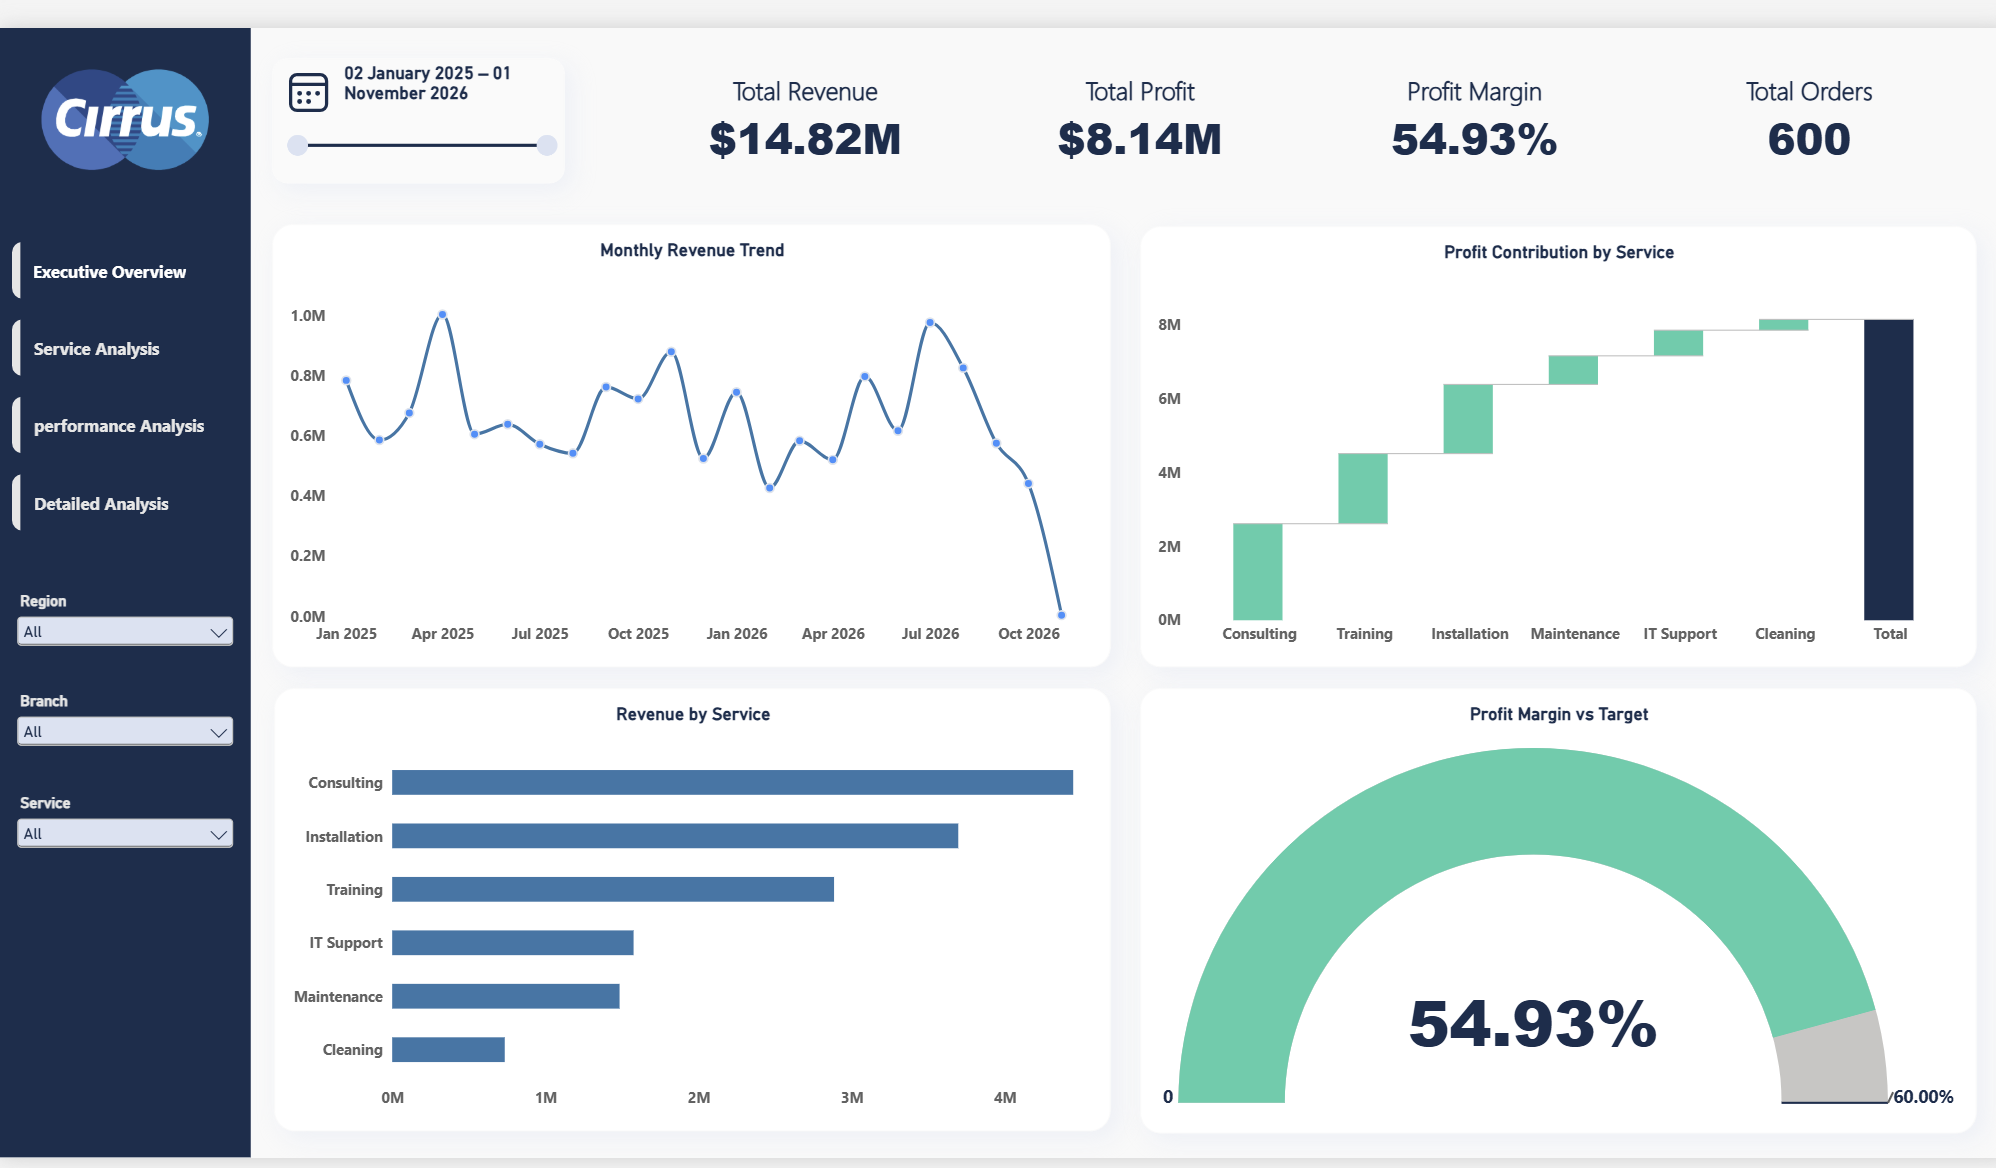

This screenshot's page, from the dashboard's own definition file:
{"tool":"powerbi","page":{"name":"Executive Overview","canvas":[1920,1080],"ordinal":0},"visuals":[{"type":"cardVisual","title":"Total Revenue","fields":{"Data":["ServiceData.Total Revenue","ServiceData.Total Profit","ServiceData.Profit Margin","ServiceData.Total Orders"]},"box":[610,28,1280,120],"z":0},{"type":"shape","box":[0,0,239.8,1079.9],"z":1000},{"type":"lineChart","title":"Monthly Revenue Trend","fields":{"Category":["ServiceData.OrderDate.Variation.Date Hierarchy.Year","ServiceData.OrderDate.Variation.Date Hierarchy.Month"],"Y":["Sum(ServiceData.Revenue_INR)"]},"box":[260,188,802,424],"z":2000},{"type":"clusteredBarChart","title":"Revenue by Service","fields":{"Category":["ServiceData.Service"],"Y":["Sum(ServiceData.Revenue_INR)"]},"box":[262,632,800,424],"z":3000},{"type":"waterfallChart","title":"Profit Contribution by Service","fields":{"Category":["ServiceData.Service"],"Y":["Sum(ServiceData.Profit_INR)"]},"box":[1090,190,800,422],"z":4000},{"type":"gauge","title":"Profit Margin vs Target","fields":{"MaxValue":["ServiceData.Gauge Target"],"MinValue":["ServiceData.Gauge Minimum"],"TargetValue":["ServiceData.Gauge Target"],"Y":["ServiceData.Profit Margin"]},"box":[1090,632,800,426],"z":5000},{"type":"textbox","box":[0,733,260,300],"z":6000},{"type":"slicer","fields":{"Values":["ServiceData.Region"]},"box":[11.7,540,216.7,98.3],"z":7000},{"type":"slicer","fields":{"Values":["ServiceData.Branch"]},"box":[11.7,635,216.7,98.3],"z":8000},{"type":"slicer","fields":{"Values":["ServiceData.Service"]},"box":[11.7,733.3,216.7,91.7],"z":9000},{"type":"pageNavigator","box":[11.7,205.3,203,280],"z":10000},{"type":"slicer","fields":{"Values":["ServiceData.OrderDate"]},"box":[260,28,280,120],"z":11000},{"type":"image","box":[28,8,182,160],"z":12000}]}

Visuals, with their boxes on the page's 1920x1080 design canvas (x1, y1, x2, y2). These are canvas units, not pixel positions in the 1996x1168 screenshot, which may show the page scaled, cropped or inside an application window:
"Total Revenue" cardVisual: {"x1": 610, "y1": 28, "x2": 1890, "y2": 148}
shape: {"x1": 0, "y1": 0, "x2": 240, "y2": 1080}
"Monthly Revenue Trend" lineChart: {"x1": 260, "y1": 188, "x2": 1062, "y2": 612}
"Revenue by Service" clusteredBarChart: {"x1": 262, "y1": 632, "x2": 1062, "y2": 1056}
"Profit Contribution by Service" waterfallChart: {"x1": 1090, "y1": 190, "x2": 1890, "y2": 612}
"Profit Margin vs Target" gauge: {"x1": 1090, "y1": 632, "x2": 1890, "y2": 1058}
textbox: {"x1": 0, "y1": 733, "x2": 260, "y2": 1033}
slicer - ServiceData.Region: {"x1": 12, "y1": 540, "x2": 228, "y2": 638}
slicer - ServiceData.Branch: {"x1": 12, "y1": 635, "x2": 228, "y2": 733}
slicer - ServiceData.Service: {"x1": 12, "y1": 733, "x2": 228, "y2": 825}
pageNavigator: {"x1": 12, "y1": 205, "x2": 215, "y2": 485}
slicer - ServiceData.OrderDate: {"x1": 260, "y1": 28, "x2": 540, "y2": 148}
image: {"x1": 28, "y1": 8, "x2": 210, "y2": 168}
